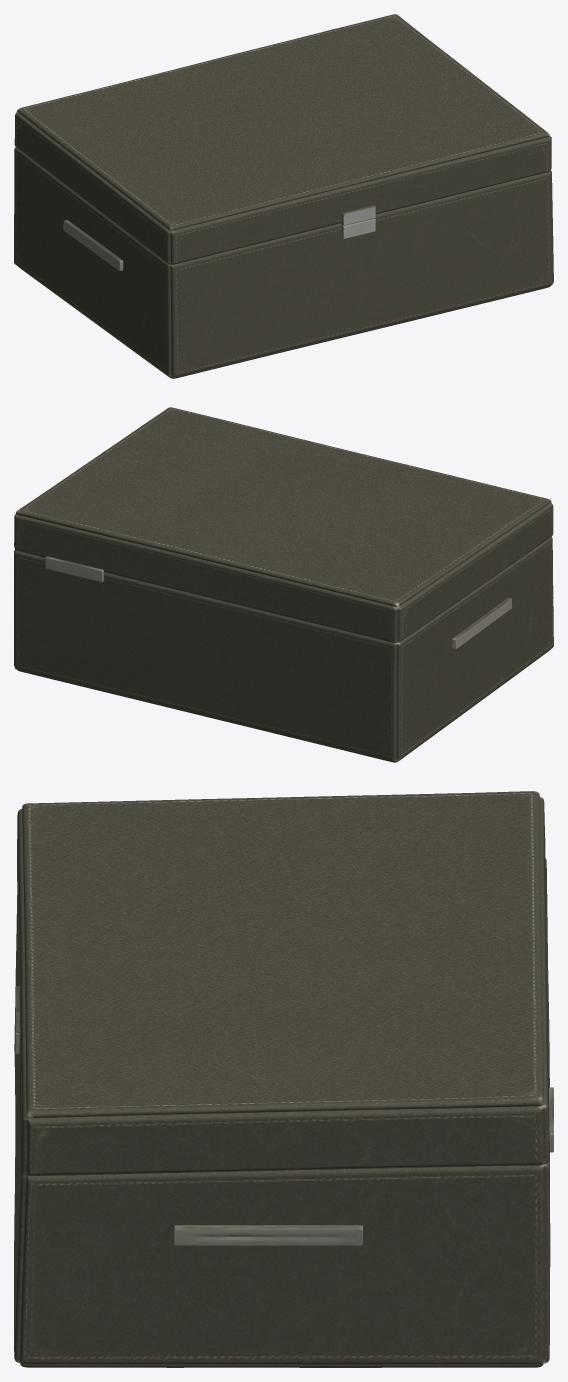
File: archive.glb
3 renders of one model, top to bottom at view 1: azimuth 30°, elevation 25°; view 2: azimuth 150°, elevation 25°; view 3: azimuth 270°, elevation 25°, orthographic. The views are drawn at different scales.
Visible parts, largest first — view 1: derive_modern_memory_box.001; view 2: derive_modern_memory_box.001; view 3: derive_modern_memory_box.001.
Boxes of the visible parts, bbox=[...] form: derive_modern_memory_box.001: bbox=[14, 14, 553, 378]; derive_modern_memory_box.001: bbox=[14, 407, 553, 762]; derive_modern_memory_box.001: bbox=[14, 791, 553, 1367].
Size of what is drawn, in the model's own units: 0.38 by 0.1484 by 0.2689.
1 material, 1 textured.
